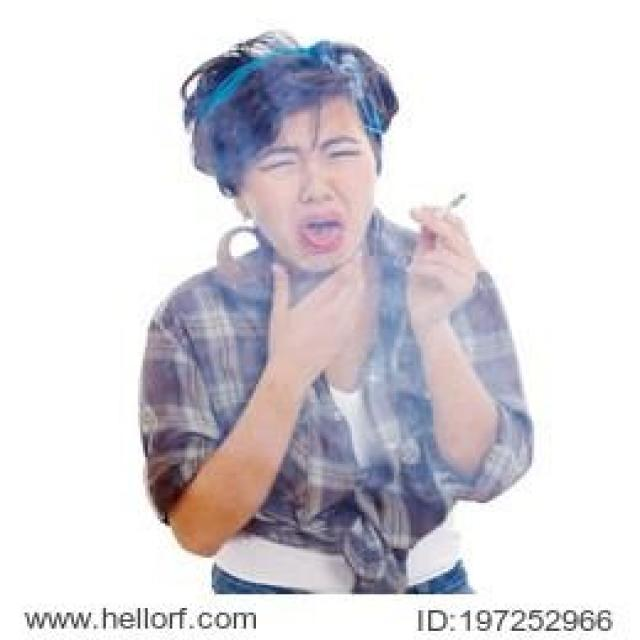Сигарета: (436, 193, 465, 221)
Тело: (138, 33, 536, 591)
